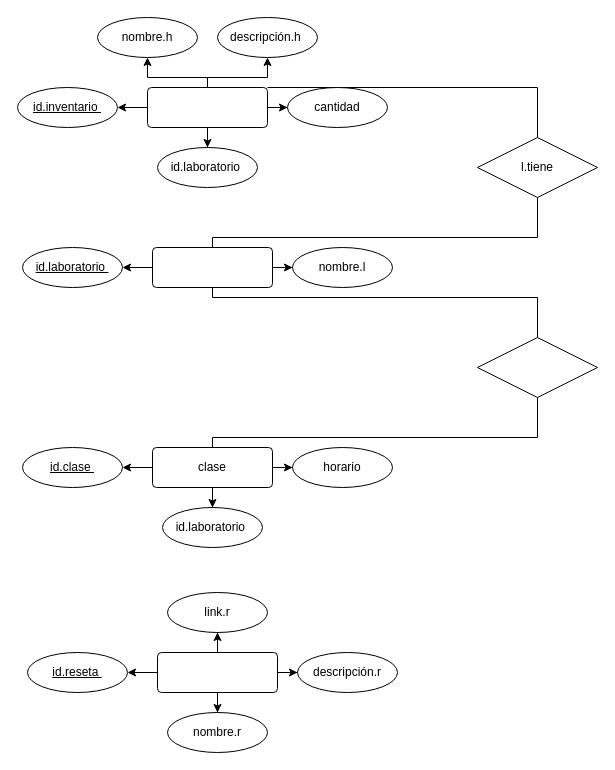
Some shapes in this 615 by 770 pixel diagram are drawn without their labels. The shapes that lost their labels are listed below. From the top down, each one's box as (x1, y1, x2, y2) in pixels, then its label:
(146, 86, 268, 128): inventario
(152, 246, 272, 288): laboratorio
(476, 336, 598, 398): c.tiene
(156, 652, 278, 692): inventario.h
